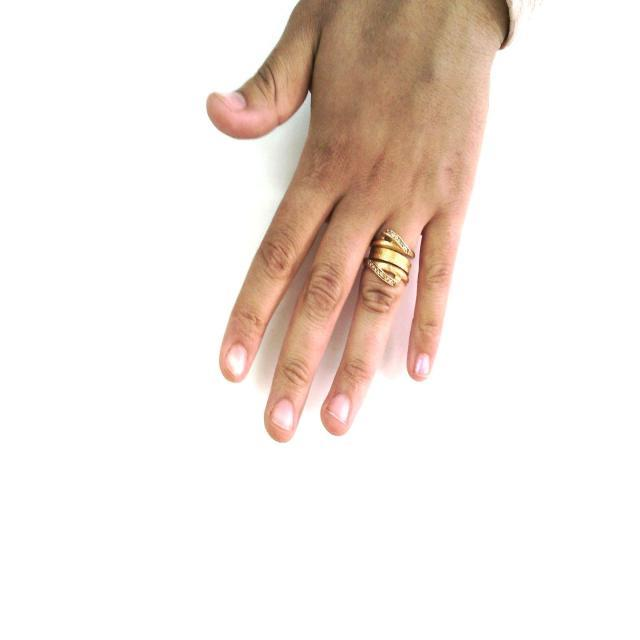Fingernail: (272, 400, 293, 431), (226, 345, 246, 377), (328, 394, 349, 420), (218, 92, 245, 109), (416, 354, 429, 375)
